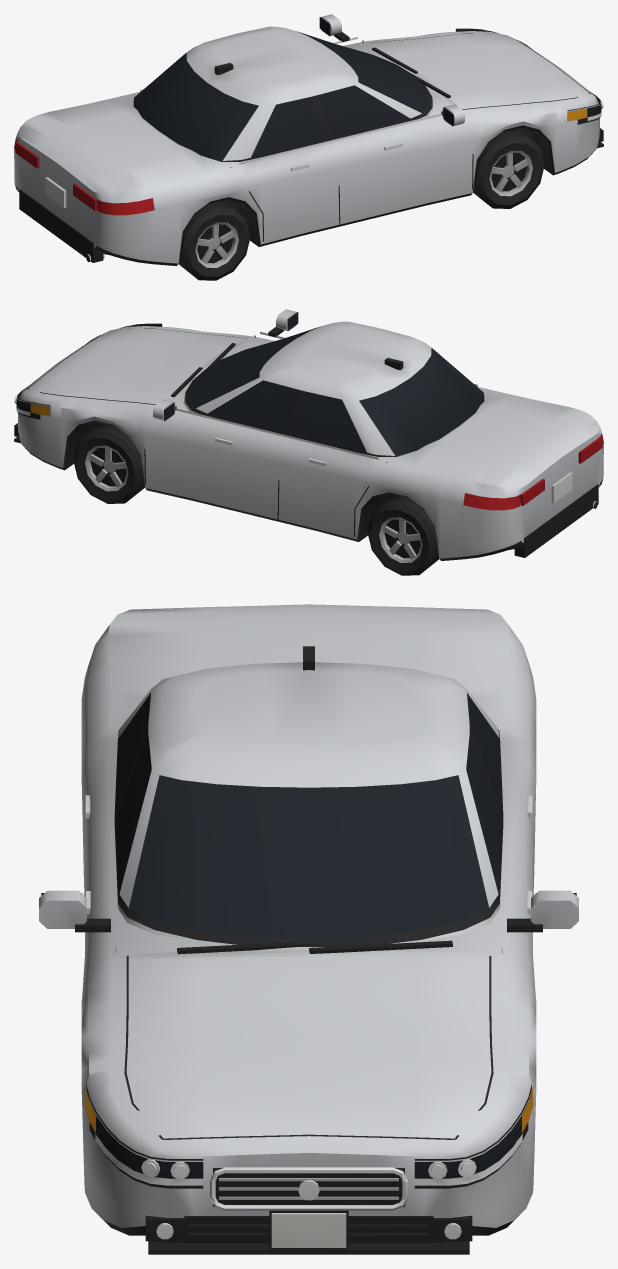
File: sedan.glb
3 views of the same model, one above another, from view 1: azimuth 30°, elevation 25°; view 2: azimuth 150°, elevation 25°; view 3: azimuth 270°, elevation 25° (orthographic). The views are drawn at different scales.
Visible parts, largest first — view 1: lod0; view 2: lod0; view 3: lod0.
Boxes of the visible parts, box(x1,y1,x2,y2) form: lod0: box(14, 14, 603, 280); lod0: box(14, 309, 603, 575); lod0: box(39, 604, 578, 1254).
Size of what is drawn, in the model's own units: 4.92 by 1.49 by 2.25.
